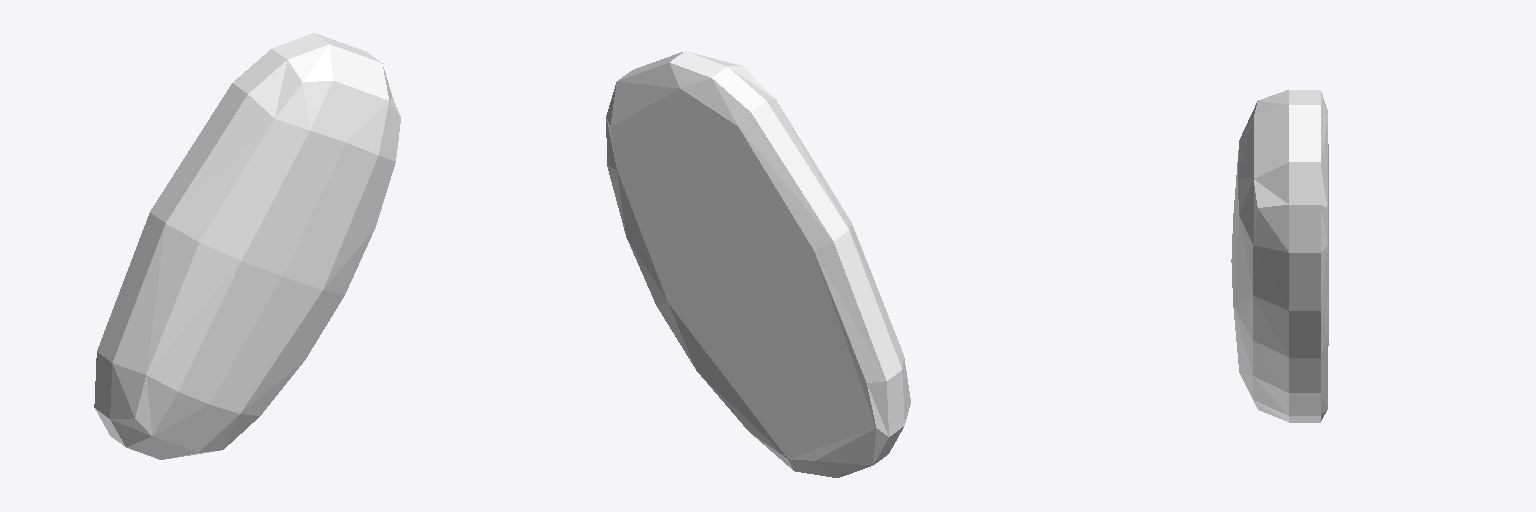
The model's file is bread.obj.
The picture shows the model from 3 angles: view 1: azimuth 30°, elevation 25°; view 2: azimuth 150°, elevation 25°; view 3: azimuth 270°, elevation 25°; orthographic projection.
Parts seen in each view (by area): view 1: Bread01A:0; view 2: Bread01A:0; view 3: Bread01A:0.
Boxes of the visible parts, box(x1,y1,x2,y2) form: Bread01A:0: box(94, 33, 400, 459); Bread01A:0: box(606, 51, 910, 477); Bread01A:0: box(1231, 90, 1328, 422).
Size of the model in its own units: 17.29 by 22.11 by 5.14.